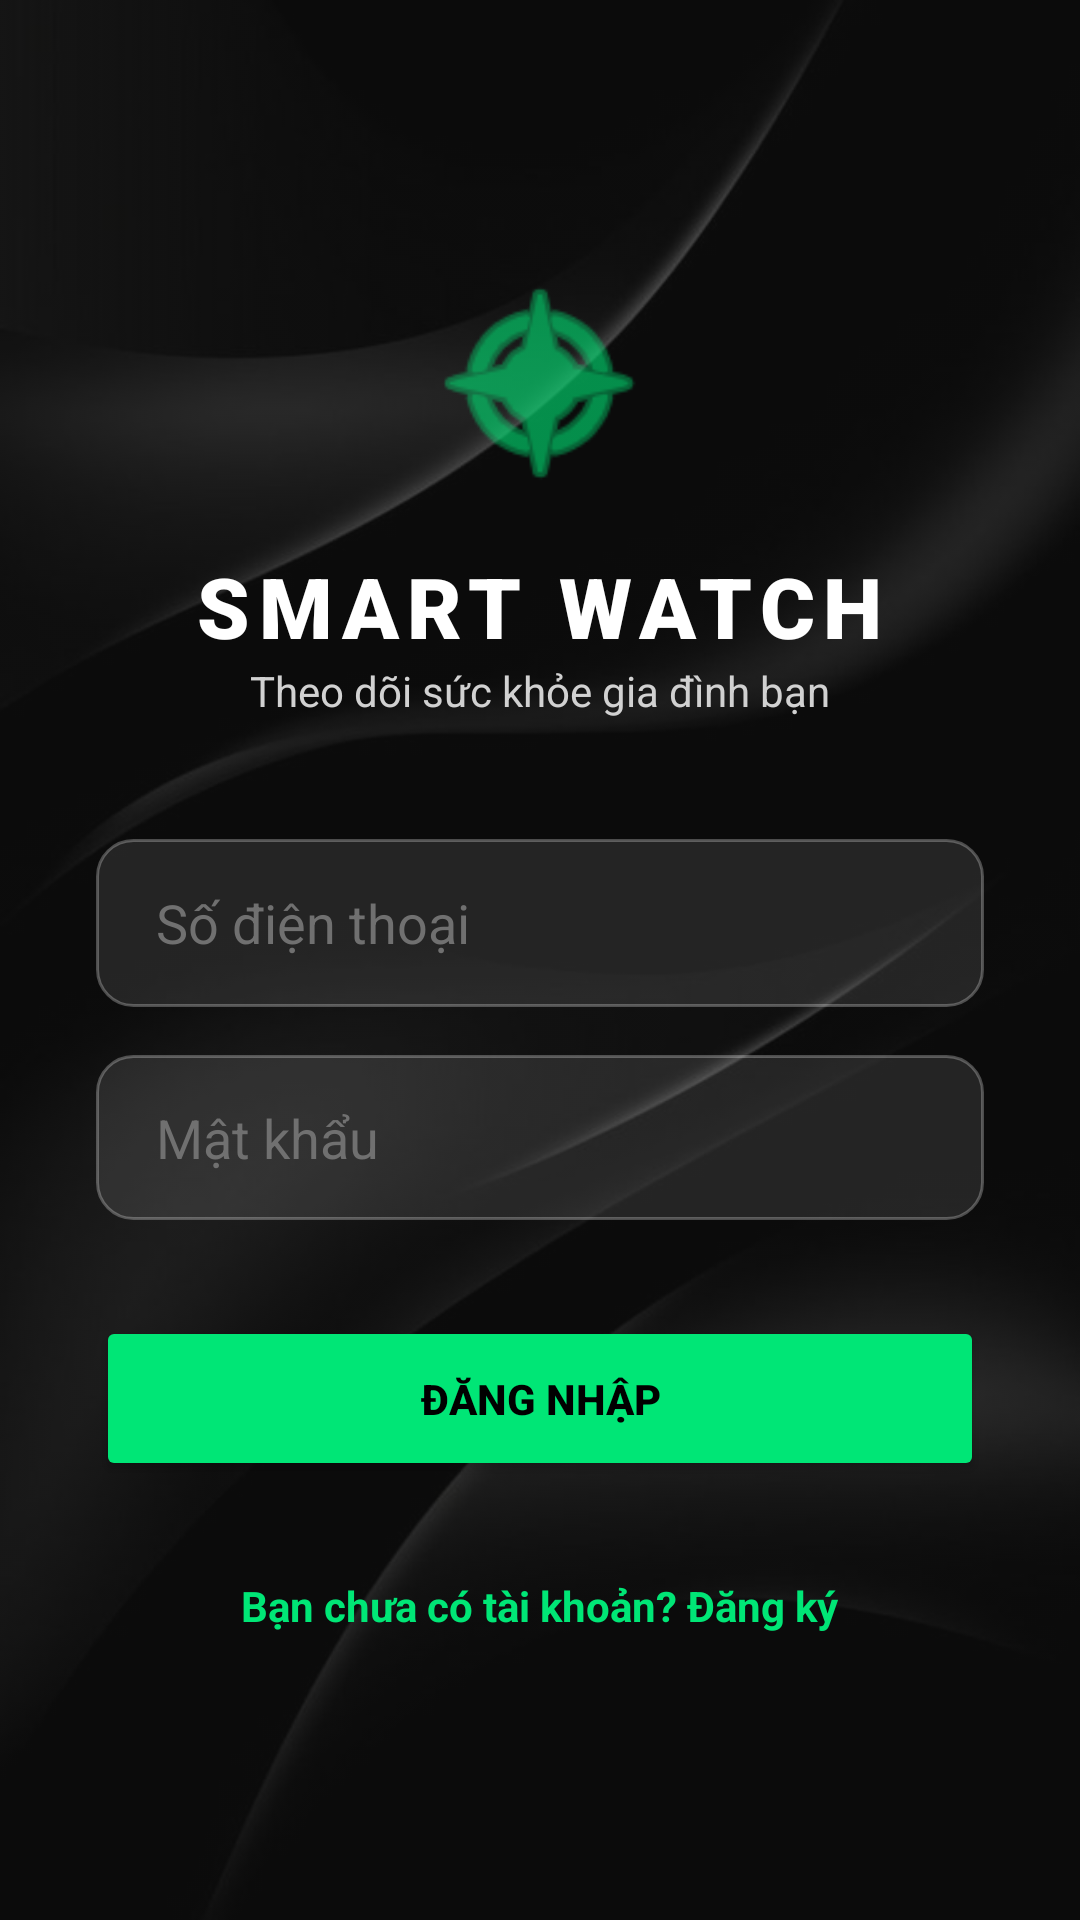

Screen size 1080 x 1920. Icon name, then its center in pixels as point (x, y):
compass: point (540, 381)
